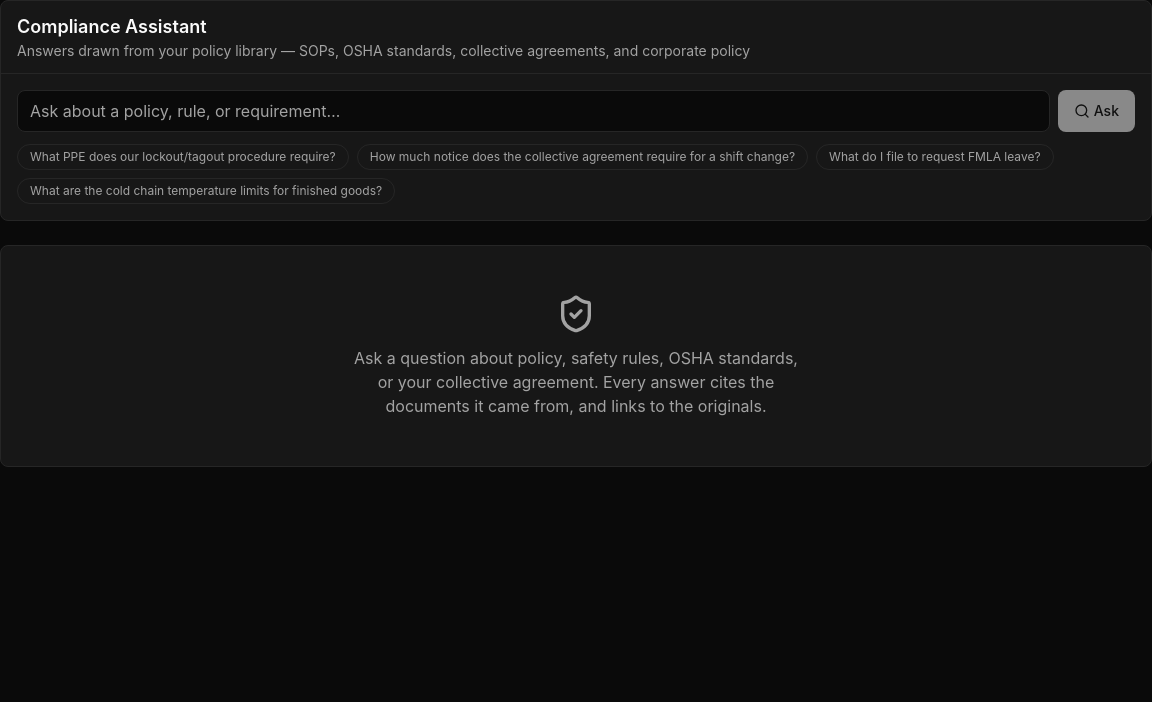
Test case: Compliance Assistant › generation unavailable › shows the passages rather than an error
In the field named "Compliance question": (533, 111) [17,90,1050,132], type "lockout procedure"
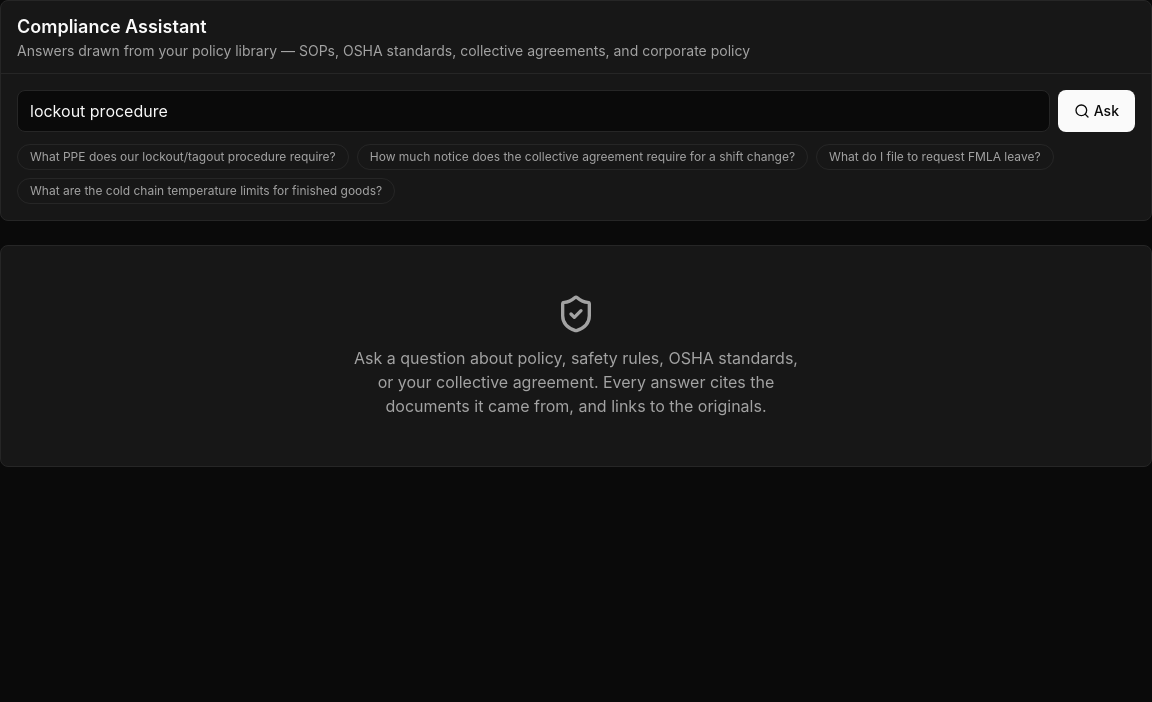
Click the button "Ask": (1096, 111) [1058,90,1135,132]
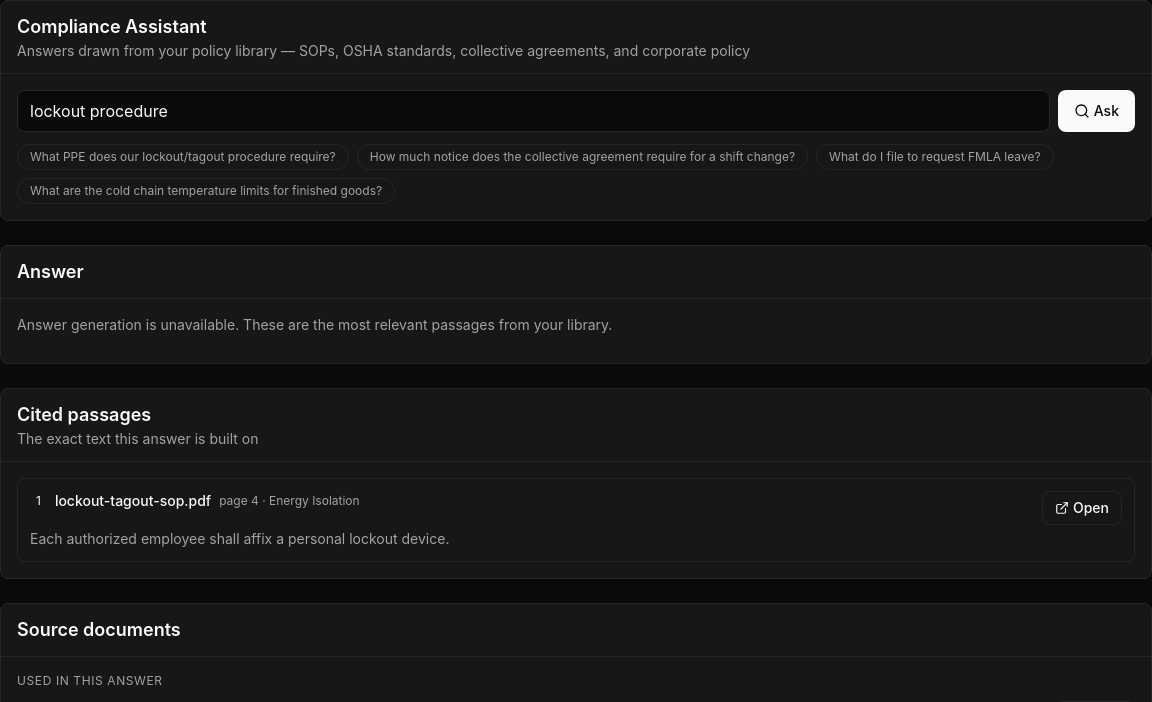
Expected: the text "Answer generation is unavailable" is shown, [17,316,612,333]
Expected: the text "personal lockout device" is shown, [30,530,450,547]
